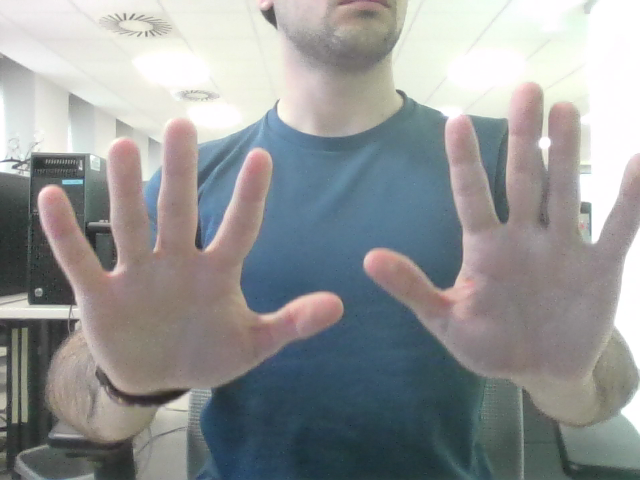Manos Arriba: (81, 112, 615, 354)
